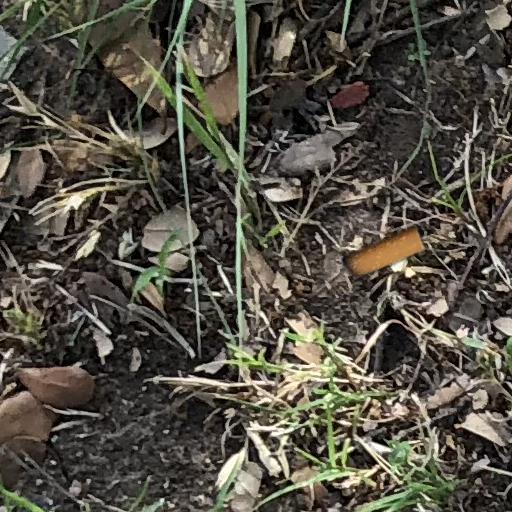smoke: (343, 227, 425, 276)
